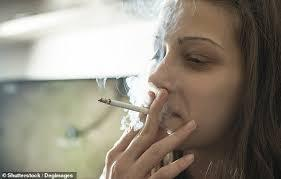smoke: (76, 0, 208, 138)
